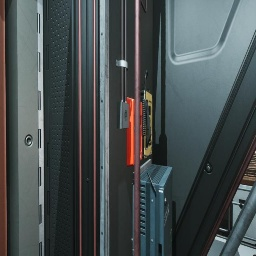EmergencyPhone ,: (140, 70, 152, 158)
FireAlarm ,: (127, 97, 142, 167)
